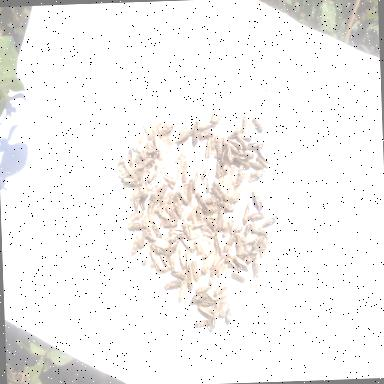pbw: (176, 275, 189, 302), (219, 136, 230, 166), (248, 206, 270, 221), (202, 250, 216, 273), (208, 103, 222, 125), (225, 256, 242, 274), (166, 236, 180, 257), (214, 280, 232, 296), (213, 252, 226, 274), (251, 188, 264, 210), (165, 202, 179, 222), (162, 277, 182, 291), (260, 214, 280, 228), (192, 116, 202, 144), (218, 195, 234, 212), (248, 167, 266, 182), (154, 182, 168, 201), (123, 154, 135, 176), (252, 226, 274, 238), (224, 138, 234, 164), (185, 264, 195, 290), (224, 232, 237, 252), (195, 190, 208, 210), (234, 254, 250, 270), (252, 235, 264, 256), (230, 270, 248, 284), (204, 169, 213, 196), (129, 234, 140, 256), (168, 227, 188, 239), (156, 195, 168, 215), (232, 164, 244, 184), (252, 256, 262, 280), (142, 240, 152, 264), (135, 186, 150, 202), (150, 248, 162, 268), (178, 184, 190, 204), (191, 291, 210, 303), (222, 218, 234, 237), (258, 148, 273, 163), (150, 240, 166, 254), (250, 116, 264, 132), (228, 124, 244, 138), (197, 303, 213, 317), (154, 236, 171, 249), (193, 238, 206, 255), (260, 236, 270, 258), (187, 118, 198, 138), (180, 216, 190, 238), (146, 192, 156, 214), (240, 222, 252, 240), (116, 153, 124, 180), (126, 208, 144, 220), (190, 257, 199, 281), (207, 262, 216, 286), (159, 122, 175, 135), (242, 196, 250, 222), (214, 230, 222, 256), (205, 135, 214, 158), (181, 159, 190, 182), (150, 220, 162, 237), (138, 185, 146, 210), (159, 218, 179, 228), (168, 268, 188, 278), (138, 228, 148, 248), (214, 177, 225, 195), (226, 140, 240, 154), (182, 236, 196, 250), (231, 184, 244, 199), (242, 231, 257, 244), (255, 154, 268, 169), (178, 244, 186, 268), (236, 132, 248, 148), (172, 244, 180, 268), (160, 252, 172, 268), (214, 132, 222, 156), (228, 136, 244, 148), (183, 247, 192, 268), (216, 207, 224, 230), (162, 172, 176, 185), (126, 220, 144, 230), (120, 178, 138, 188), (192, 318, 210, 328), (246, 142, 264, 152), (220, 210, 230, 228), (226, 302, 234, 324), (247, 158, 263, 169), (153, 126, 160, 151), (195, 282, 212, 292), (232, 152, 249, 162), (158, 207, 171, 220), (138, 156, 152, 168), (187, 178, 194, 202), (217, 262, 228, 277), (145, 119, 154, 137), (191, 168, 199, 188), (187, 204, 198, 218), (173, 200, 182, 217), (197, 130, 214, 139), (138, 166, 146, 185), (240, 150, 255, 160), (235, 158, 250, 168), (133, 186, 139, 210), (142, 121, 150, 139), (221, 160, 229, 178), (148, 164, 156, 182), (164, 188, 172, 206), (216, 158, 222, 182), (142, 228, 154, 240), (217, 304, 226, 320), (211, 311, 218, 331), (146, 138, 156, 152), (216, 291, 230, 301), (210, 184, 220, 198), (126, 146, 133, 166), (236, 249, 255, 256), (195, 201, 202, 220), (153, 266, 169, 274), (203, 196, 219, 204), (242, 243, 249, 261), (143, 212, 150, 230), (202, 226, 214, 236), (203, 211, 212, 224), (210, 218, 218, 232), (124, 175, 138, 183), (238, 132, 252, 140), (192, 218, 206, 226), (210, 208, 220, 219), (242, 114, 248, 132), (229, 225, 244, 232), (128, 192, 134, 208), (200, 122, 212, 130), (188, 231, 200, 239), (192, 212, 198, 228), (214, 297, 220, 312), (220, 297, 229, 307), (137, 150, 146, 160), (186, 220, 194, 231), (207, 203, 219, 210), (250, 220, 259, 228), (226, 252, 237, 258), (169, 256, 174, 268), (168, 180, 175, 188)
